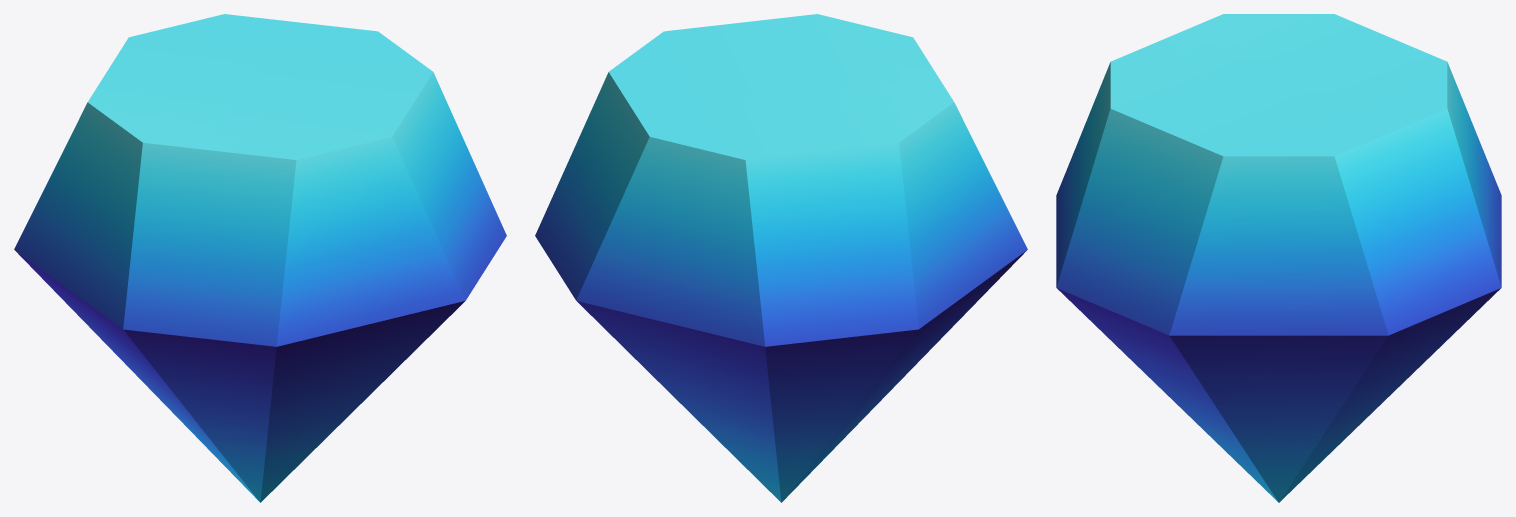
The model's file is Gem_Purple.fbx.
The picture shows the model from 3 angles, left to right: view 1: azimuth 30°, elevation 25°; view 2: azimuth 150°, elevation 25°; view 3: azimuth 270°, elevation 25°; orthographic projection.
Visible parts, largest first — view 1: Gem_Purple; view 2: Gem_Purple; view 3: Gem_Purple.
Boxes of the visible parts, box(x1,y1,x2,y2) form: Gem_Purple: box(14, 14, 506, 502); Gem_Purple: box(535, 14, 1027, 502); Gem_Purple: box(1056, 14, 1501, 502).
Size of the model in its own units: 6.32 by 6.32 by 6.55.
1 material, 1 textured.
